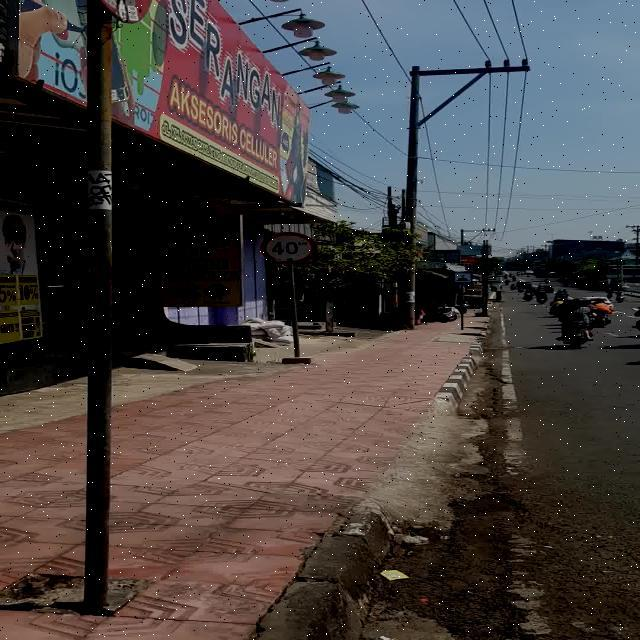Kecepatan Maks. 40 km: (260, 232, 316, 265)
